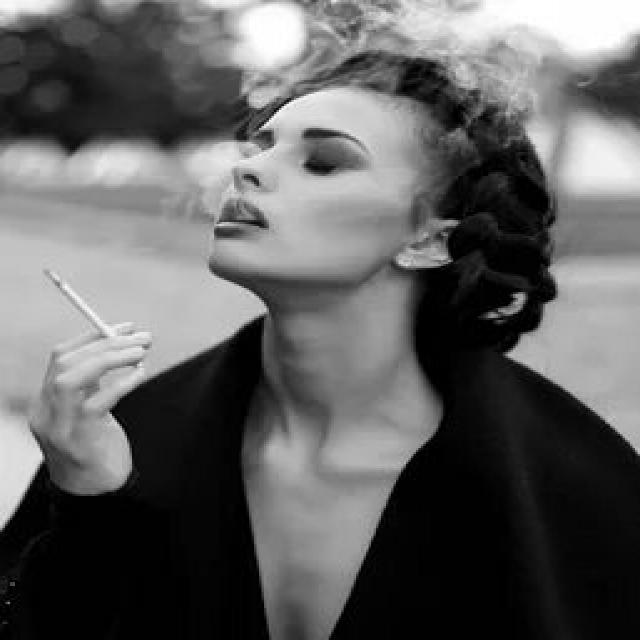cigarette: (37, 260, 122, 342)
